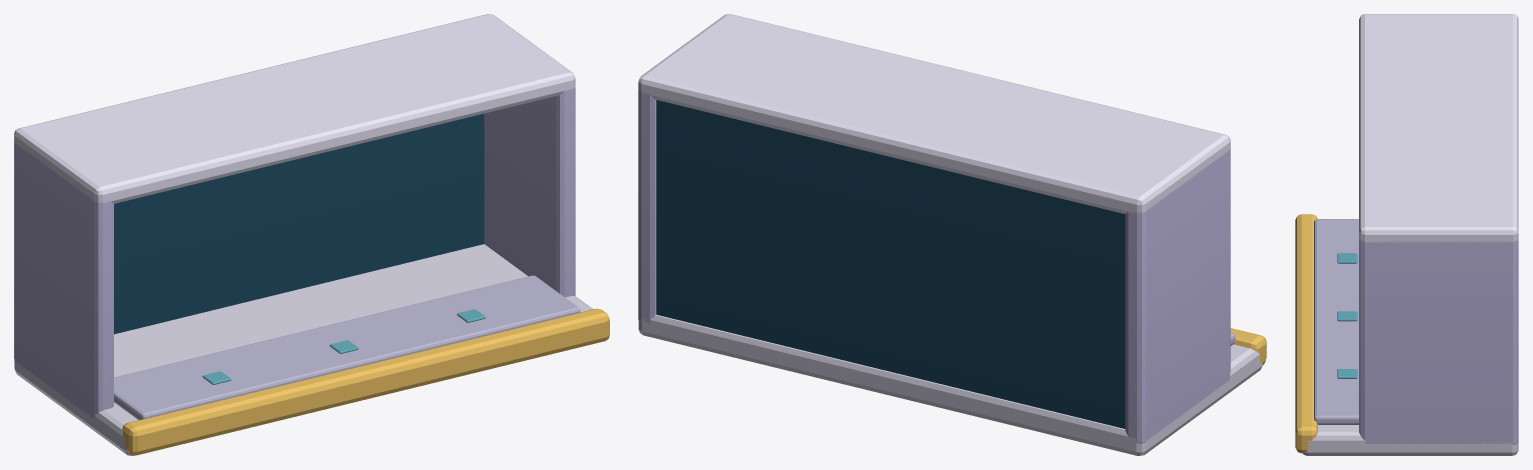
The model's file is SM_S1_Shelf.fbx.
The picture shows the model from 3 angles, left to right: view 1: azimuth 30°, elevation 25°; view 2: azimuth 150°, elevation 25°; view 3: azimuth 270°, elevation 25°; orthographic projection. The views are drawn at different scales.
Visible parts, largest first — view 1: SM_S1_Shelf; view 2: SM_S1_Shelf; view 3: SM_S1_Shelf.
Part boxes in pixels (x1,y1,x2,y2): SM_S1_Shelf: [14, 14, 609, 455]; SM_S1_Shelf: [638, 14, 1266, 455]; SM_S1_Shelf: [1295, 14, 1518, 455].
Size of the model in its own units: 3.55 by 1.74 by 1.54.
